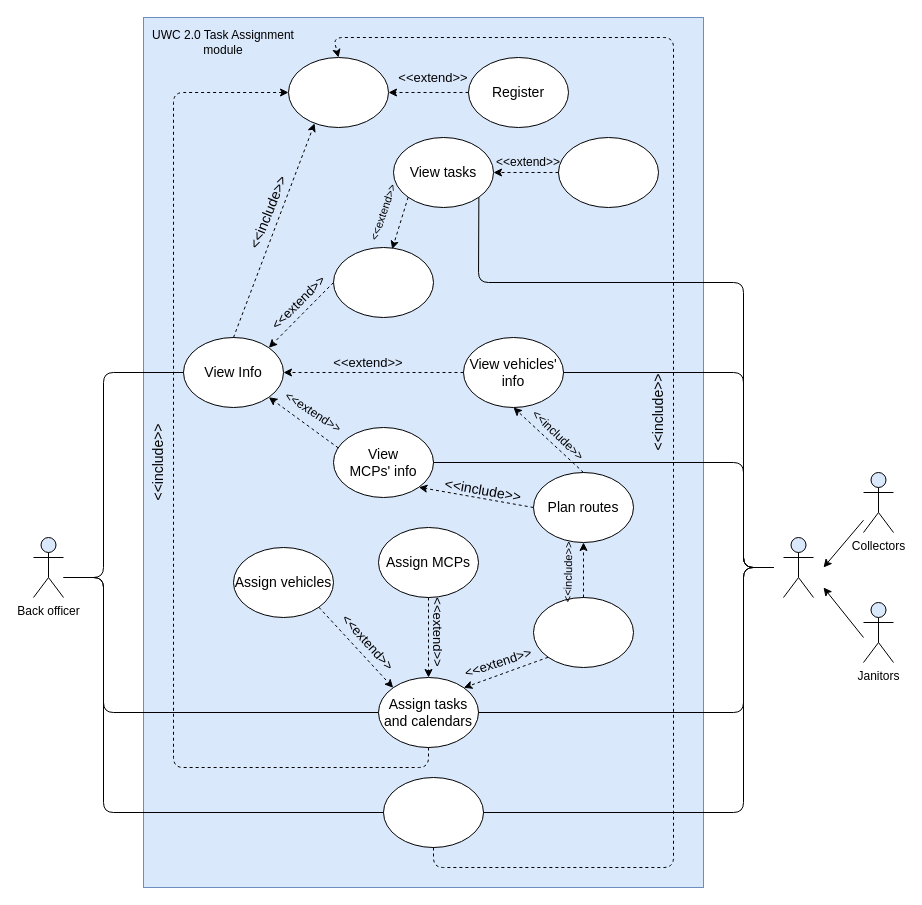
Image size: 922x905. Some labels were removed from this diagram. Each missing label, with the centre of its shape:
"Assign routes" belongs at [583,632].
"Check in/out" belongs at [608,172].
"Log in" belongs at [338,92].
"Send/Receive messages" belongs at [433,812].
"View workers' info" belongs at [383,282].
"Workers" belongs at [798,567].
